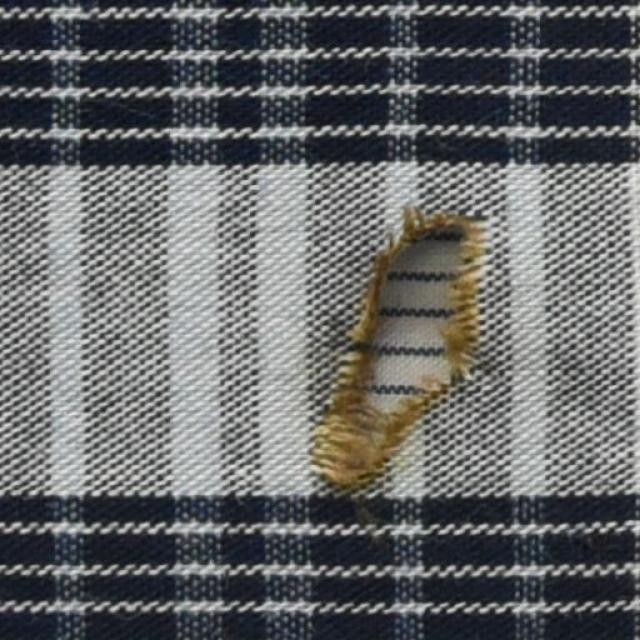Hole: (364, 237, 455, 410)
Stain: (319, 290, 444, 483), (388, 211, 488, 361)
